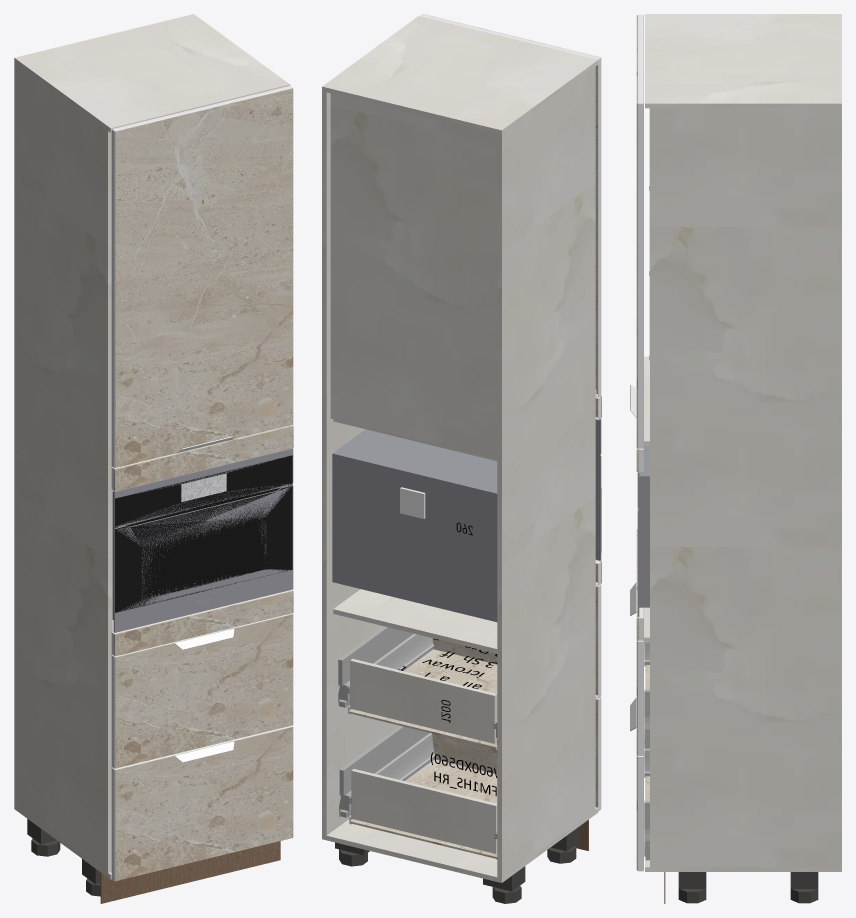
The model's file is TC3S2EHSFM1HS_RH (H2400xW600XD560).glb.
3 views of the same model, side by side, from view 1: azimuth 30°, elevation 25°; view 2: azimuth 150°, elevation 25°; view 3: azimuth 270°, elevation 25° (orthographic). The views are drawn at different scales.
Size of what is drawn, in the model's own units: 0.6 by 2.5 by 0.5999.
Materials: 14 (3 with a texture image).
